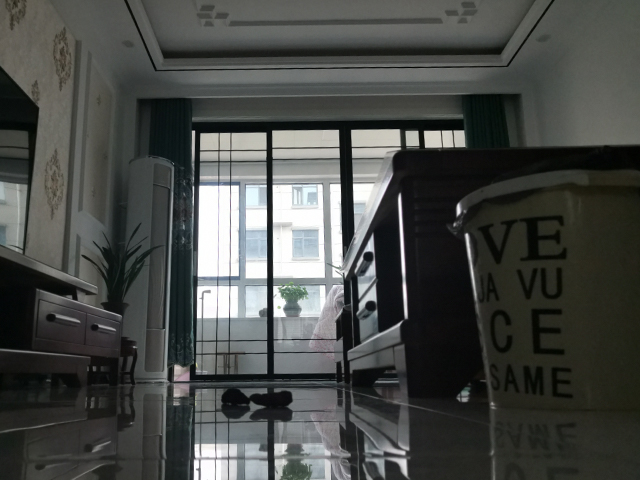cabinet: (1, 245, 125, 389)
curtain: (149, 97, 199, 368)
feces: (218, 388, 294, 409)
stool: (117, 335, 140, 384)
table: (329, 142, 640, 398)
trashcan: (452, 166, 640, 414)
